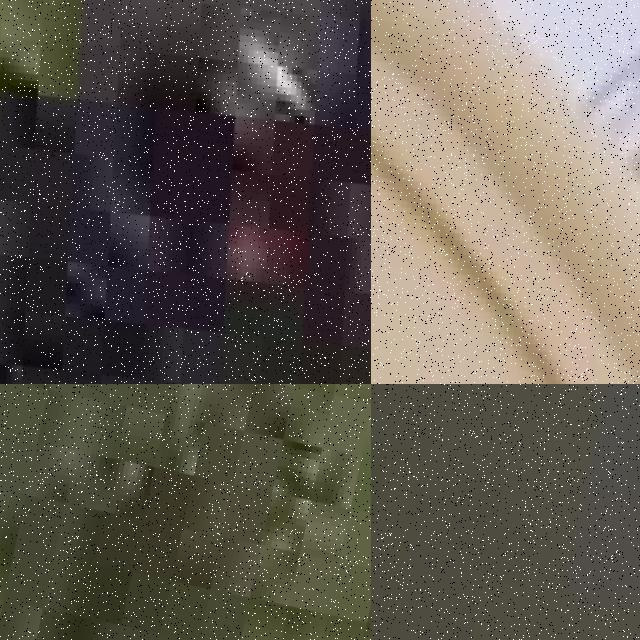drone: (0, 0, 371, 384), (371, 0, 640, 384)
